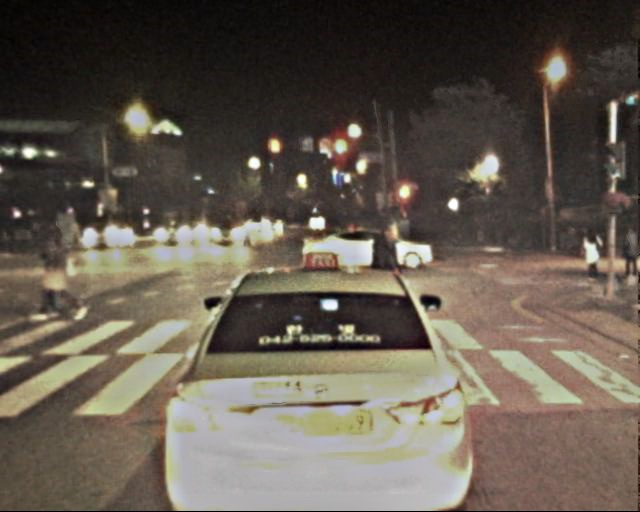person: (362, 220, 412, 343), (33, 219, 82, 320), (581, 229, 604, 286), (619, 226, 640, 286)
